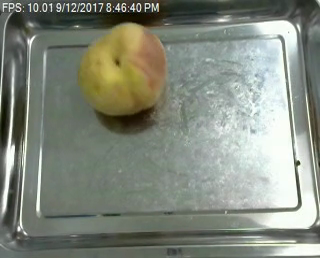Peach: (80, 22, 168, 116)
